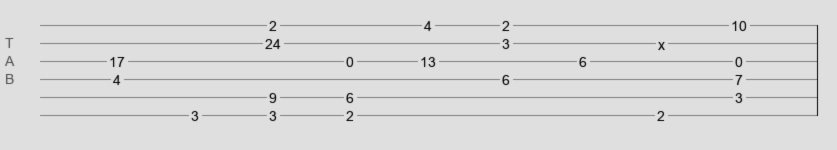0: (346, 54, 354, 64), (735, 54, 743, 64)
10: (731, 18, 747, 28)
13: (420, 54, 436, 64)
17: (109, 54, 125, 64)
2: (269, 18, 277, 28), (346, 108, 354, 118), (502, 18, 510, 28), (657, 108, 665, 118)
24: (265, 36, 281, 46)
3: (191, 108, 199, 118), (269, 108, 277, 118), (502, 36, 510, 46), (735, 90, 743, 100)
4: (113, 72, 121, 82), (424, 18, 432, 28)
6: (346, 90, 354, 100), (502, 72, 510, 82), (579, 54, 587, 64)
7: (735, 72, 743, 82)
9: (269, 90, 277, 100)
x: (658, 37, 665, 45)
